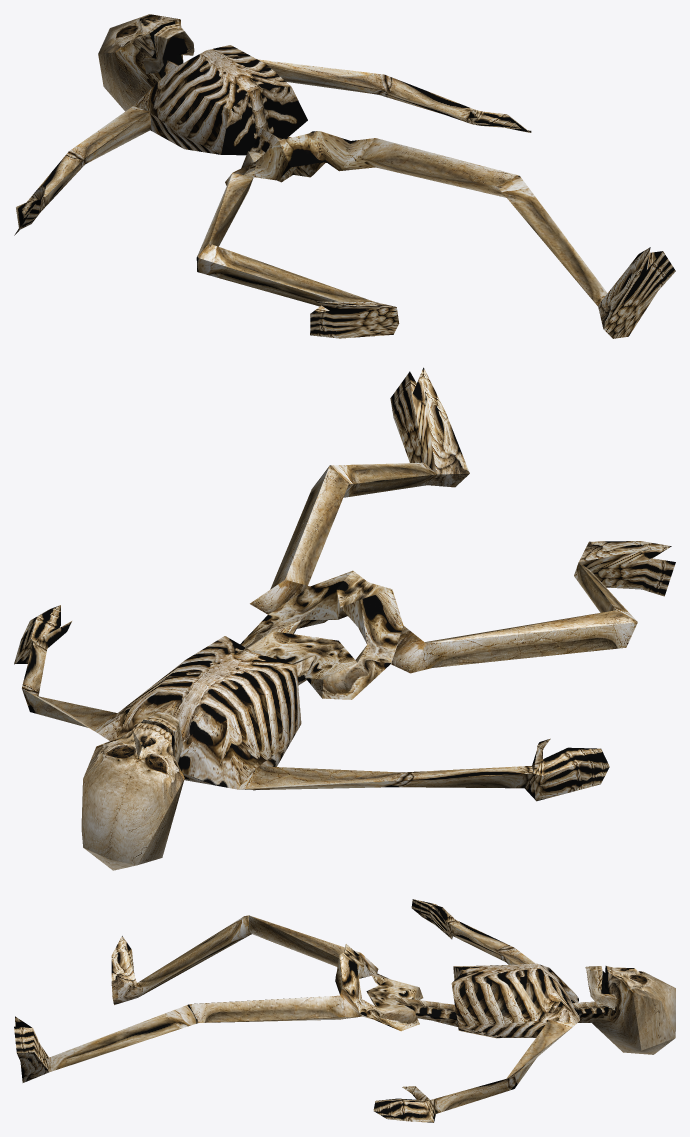
File: mm9_deco_skeletonlayingprop.glb
The picture shows the model from 3 angles, top to bottom: view 1: azimuth 30°, elevation 25°; view 2: azimuth 150°, elevation 25°; view 3: azimuth 270°, elevation 25°; orthographic projection. The views are drawn at different scales.
Parts seen in each view (by area): view 1: Skeletonlayingprop; view 2: Skeletonlayingprop; view 3: Skeletonlayingprop.
Part boxes in pixels (<box>): Skeletonlayingprop: <box>14,14,675,338</box>; Skeletonlayingprop: <box>14,367,675,870</box>; Skeletonlayingprop: <box>14,899,675,1122</box>.
Size of the model in its own units: 1.71 by 0.3749 by 2.36.
Materials: 2 (2 with a texture image).
